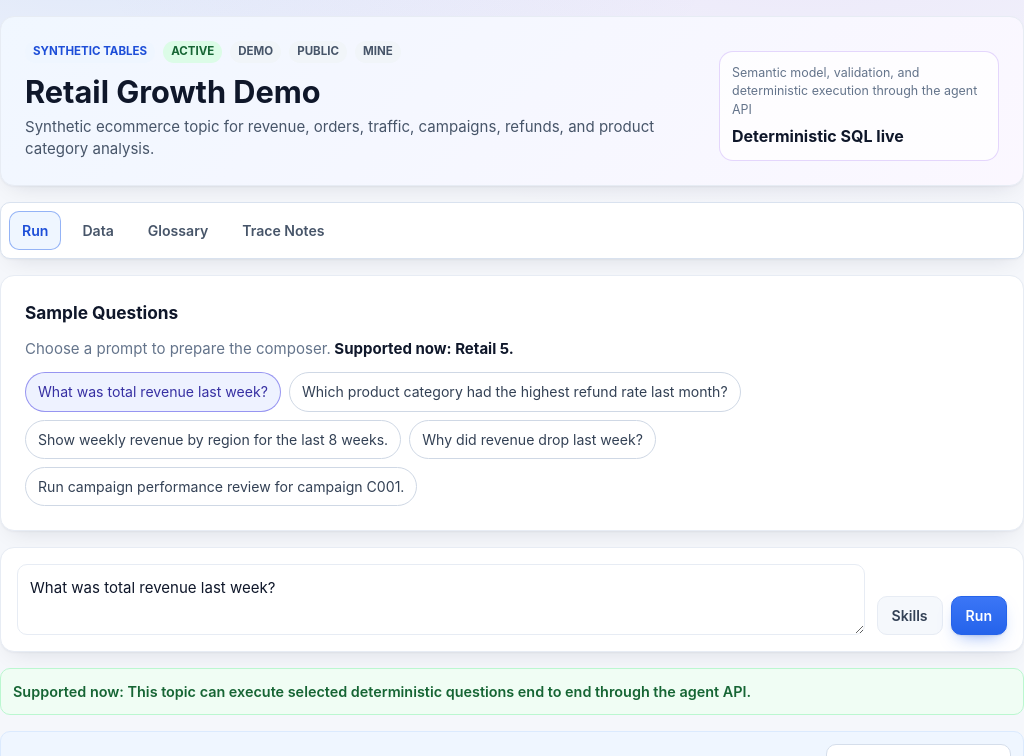
it: TopicDetailPage › cancels an active server stream and keeps received steps for retry
Click the button "Run" at [979, 615], box x1=951 y1=596 x2=1007 y2=635
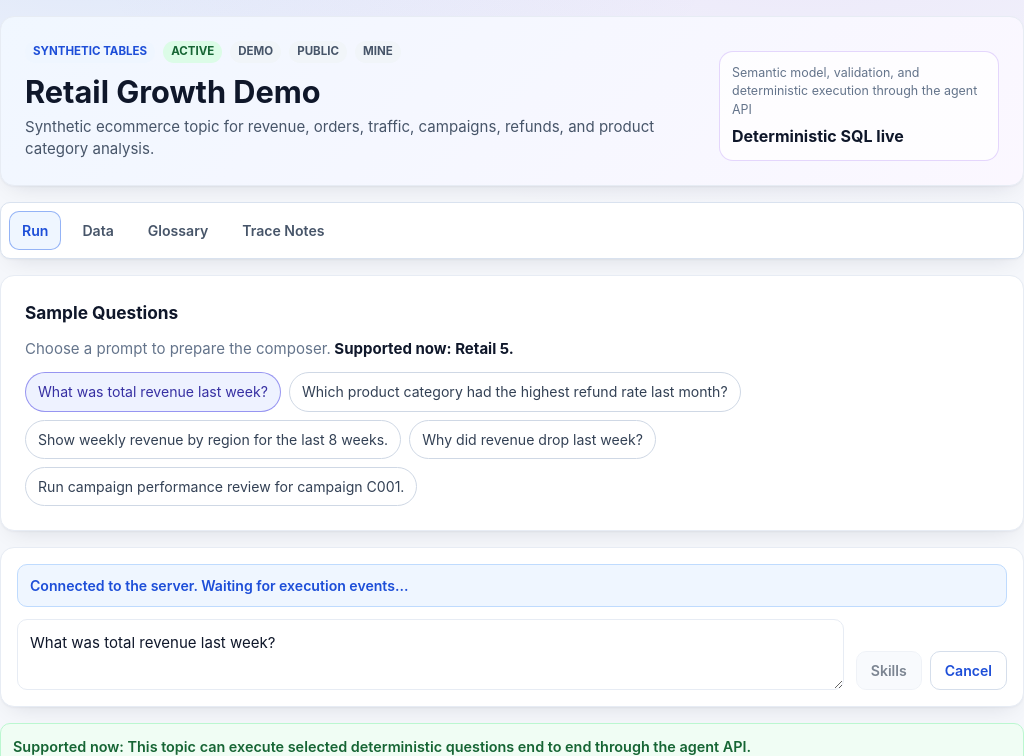
Click the button "Cancel" at [968, 670], box x1=930 y1=651 x2=1007 y2=690
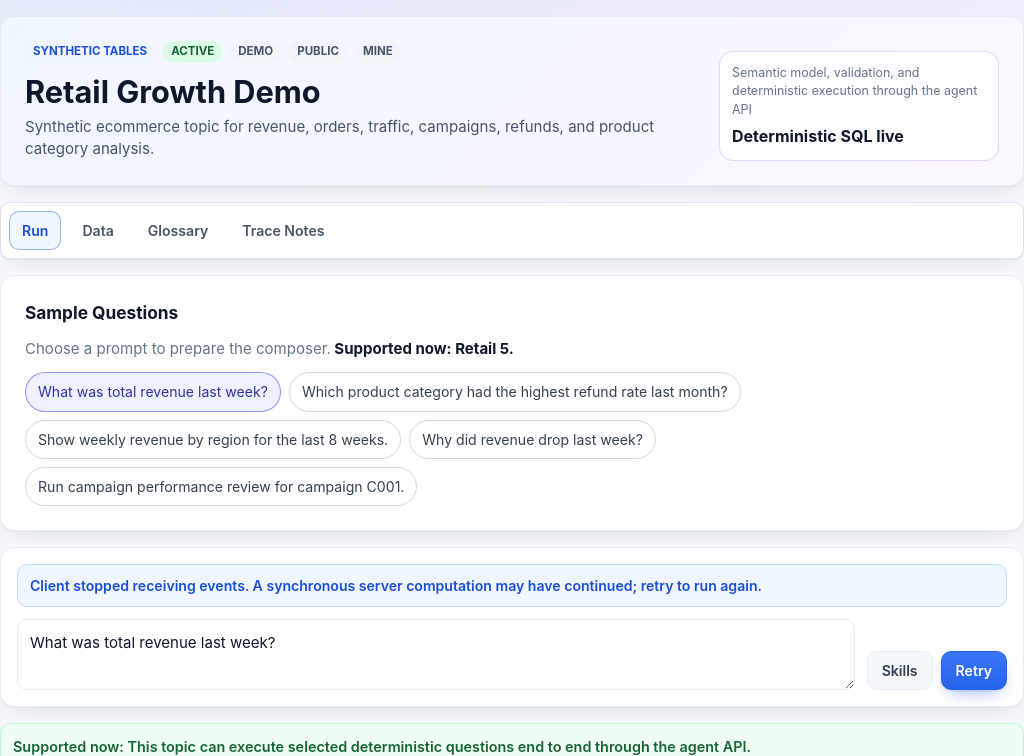
Check: the text "Client stopped receiving events. A synchronous server computation may have continued; retry to run again." is shown, box x1=30 y1=577 x2=762 y2=594
Check: the button "Retry" is shown, box x1=941 y1=651 x2=1007 y2=690
